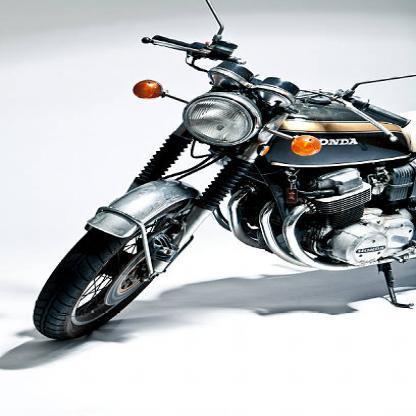Motorcycle: (27, 0, 415, 344)
